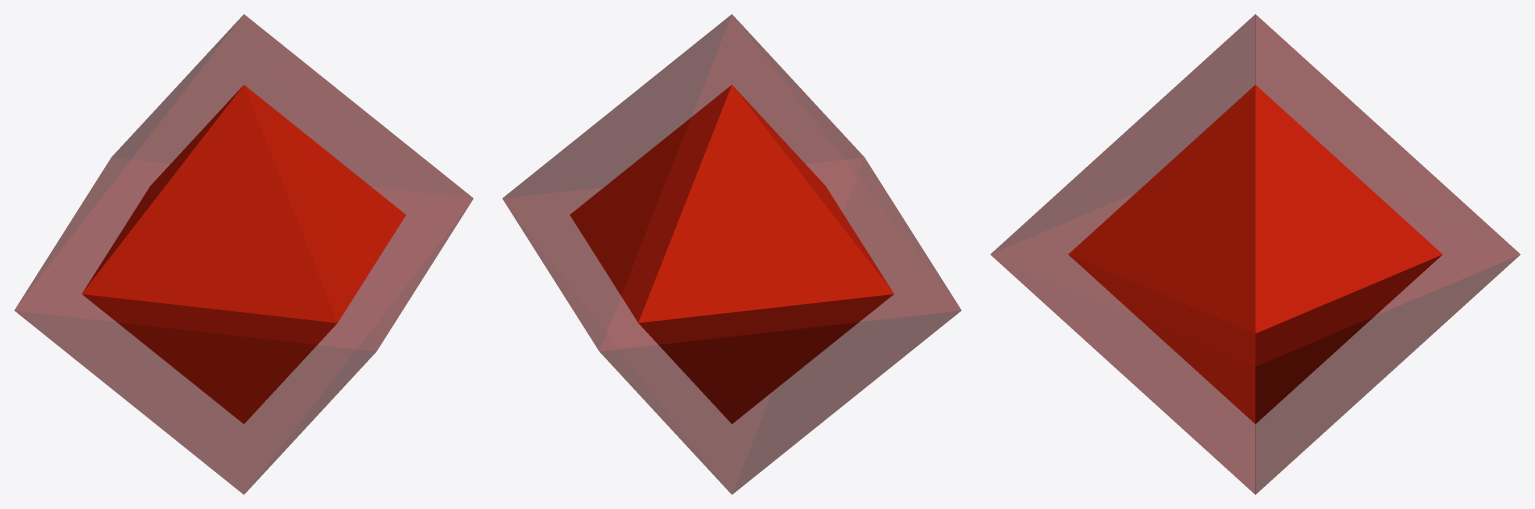
The model's file is Enemy_Low_LilSharp.FBX.
The picture shows the model from 3 angles, left to right: view 1: azimuth 30°, elevation 25°; view 2: azimuth 150°, elevation 25°; view 3: azimuth 270°, elevation 25°; orthographic projection.
Visible parts, largest first — view 1: GeoSphere007, GeoSphere006; view 2: GeoSphere007, GeoSphere006; view 3: GeoSphere007, GeoSphere006.
Part boxes in pixels (left/top/right/bottom): GeoSphere007: left=14, top=14, right=473, bottom=494; GeoSphere006: left=82, top=85, right=405, bottom=423; GeoSphere007: left=502, top=14, right=961, bottom=494; GeoSphere006: left=570, top=85, right=893, bottom=423; GeoSphere007: left=990, top=14, right=1520, bottom=494; GeoSphere006: left=1068, top=85, right=1442, bottom=423.
Bounding box in the file's own units: 53.29 × 53.29 × 53.29.
